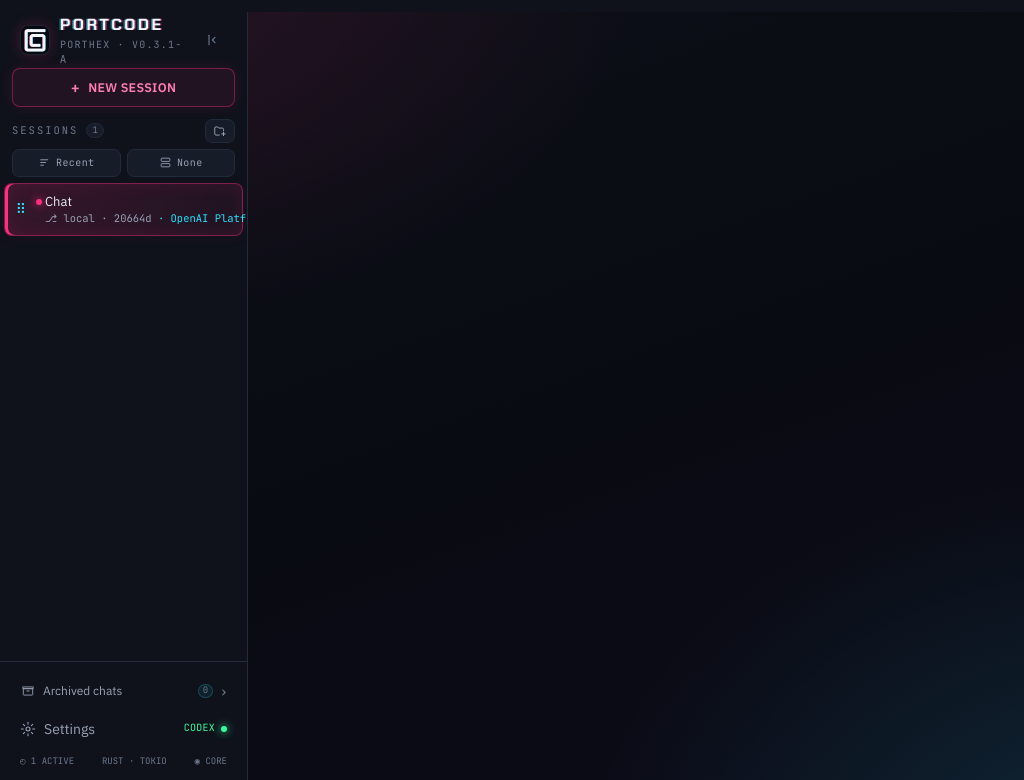
Test: Sidebar › folders › shows the New folder button only in none mode and creates an expanded empty folder
Click the button named "New folder" at point(220, 131), box [205,119,235,143]
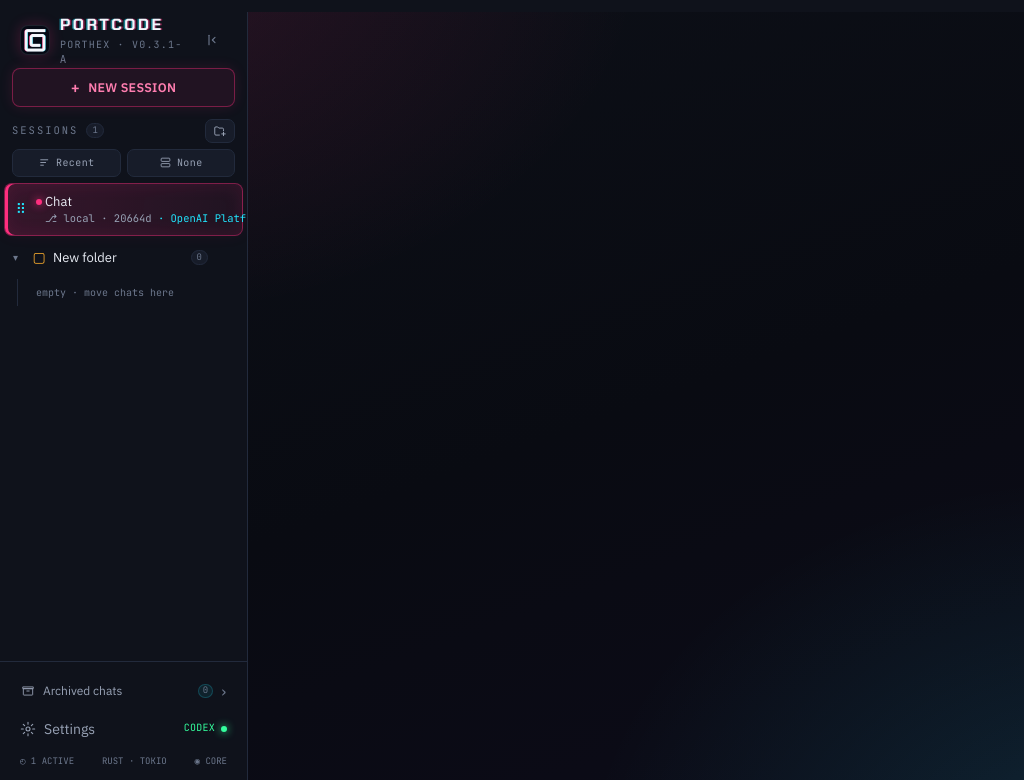
Result: the text "empty · move chats here" is shown at [36,286,174,299]
